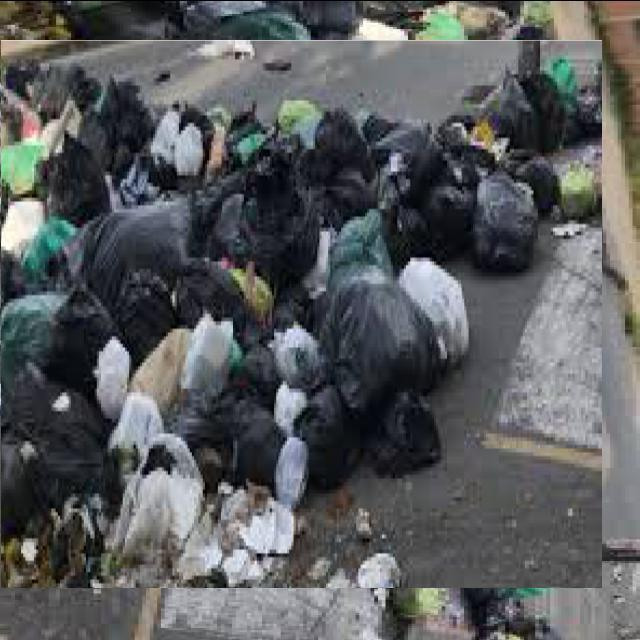Trashbag: (95, 195, 201, 326), (327, 274, 435, 400), (3, 384, 106, 514), (227, 173, 322, 284), (179, 393, 287, 487), (299, 116, 388, 220), (296, 390, 373, 476), (492, 72, 567, 142), (375, 118, 448, 189), (45, 144, 105, 230), (480, 179, 535, 265), (88, 90, 150, 159)
